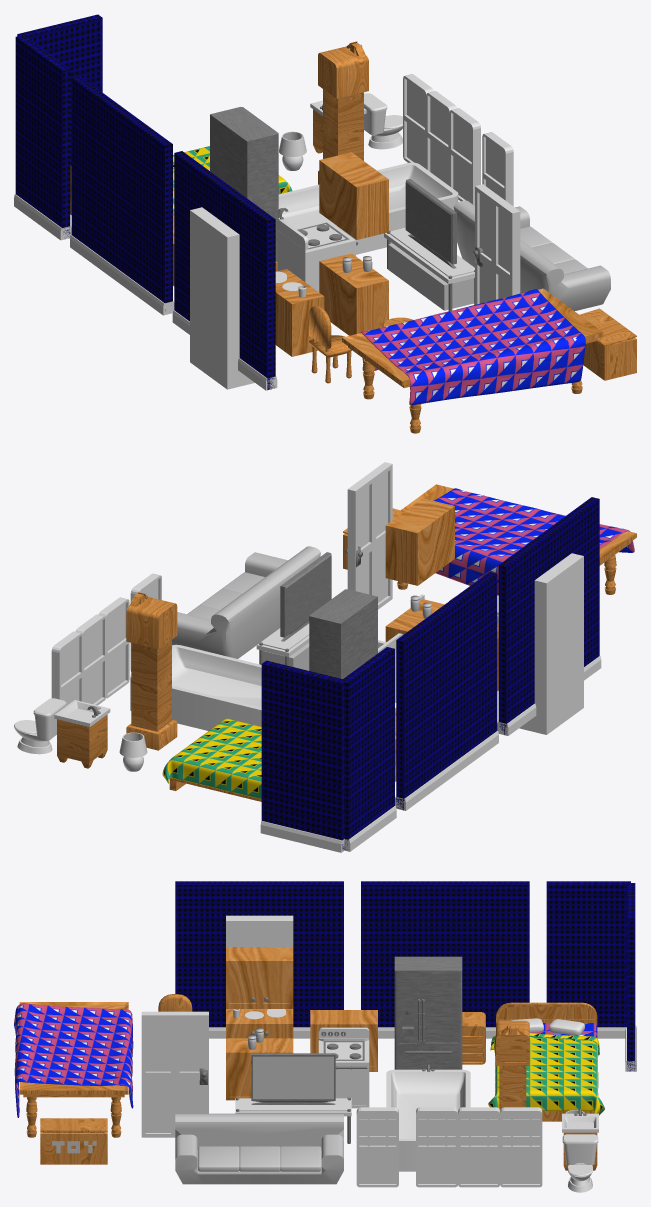
File: Cup.fbx
3 renders of one model, top to bottom at view 1: azimuth 30°, elevation 25°; view 2: azimuth 150°, elevation 25°; view 3: azimuth 270°, elevation 25°, orthographic. The views are drawn at different scales.
Parts seen in each view (by area): view 1: Plane, Wall, Wall.Corner, Wall.Doorway, CupboardsFull, Cube, Window 1x3, Couch, Fridge, Grandfather Clock, Door, Bathtub (+10 smaller); view 2: Wall.Corner, Wall, Wall.Doorway, Plane, Cube, Couch, Grandfather Clock, Bathtub, Window 1x3, CupboardsFull, Bed, Door (+7 smaller); view 3: Wall, Wall.Doorway, Wall.Corner, Plane, Couch, Window 1x3, Bed, Fridge, Door, CupboardsFull, Bathtub, TV (+12 smaller).
Boxes of the visible parts, x1,y1,x2,y2 form: Plane: (342,288,603,433); Wall: (70,76,174,315); Wall.Corner: (14,14,102,240); Wall.Doorway: (172,151,277,390); CupboardsFull: (319,152,388,335); Cube: (190,207,254,389); Window 1x3: (403,74,480,205); Couch: (453,200,610,311); Fridge: (210,107,278,261); Grandfather Clock: (318,41,368,184); Door: (473,184,520,304); Bathtub: (278,162,458,254); Wall.Corner: (260,647,396,852); Wall: (395,572,498,810); Wall.Doorway: (497,497,601,735); Plane: (392,484,636,595); Cube: (519,553,583,734); Couch: (172,546,320,658); Grandfather Clock: (126,592,177,750); Bathtub: (130,644,261,730); Window 1x3: (51,597,129,706); CupboardsFull: (385,498,454,641); Bed: (162,718,261,801); Door: (345,462,392,609); Wall: (361,881,529,1038); Wall.Doorway: (175,881,343,1038); Wall.Corner: (546,881,636,1071); Plane: (14,1002,133,1137); Couch: (175,1113,343,1184); Window 1x3: (416,1107,542,1187); Bed: (488,1002,604,1121); Fridge: (394,956,462,1069); Door: (141,1011,208,1137); CupboardsFull: (226,947,293,1100); Bathtub: (386,1064,470,1171); TV: (251,1053,335,1104).
Bounding box in the file's own units: 2315 × 1100 × 3691.
